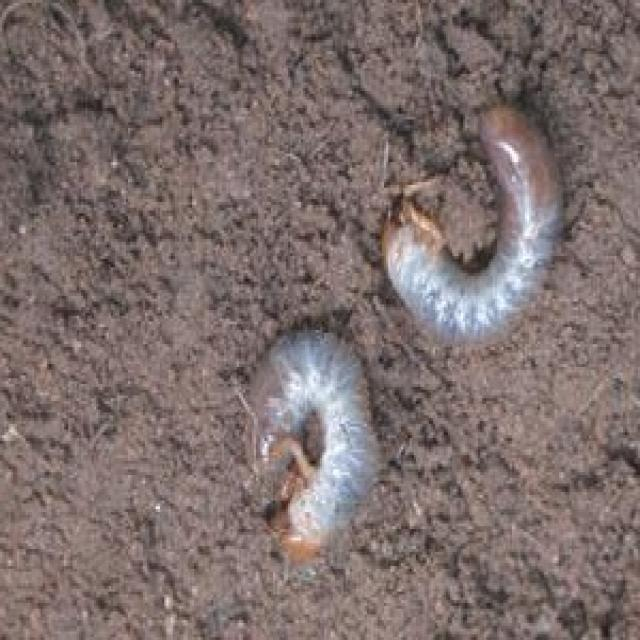grub: (370, 106, 571, 345), (216, 320, 383, 564)
